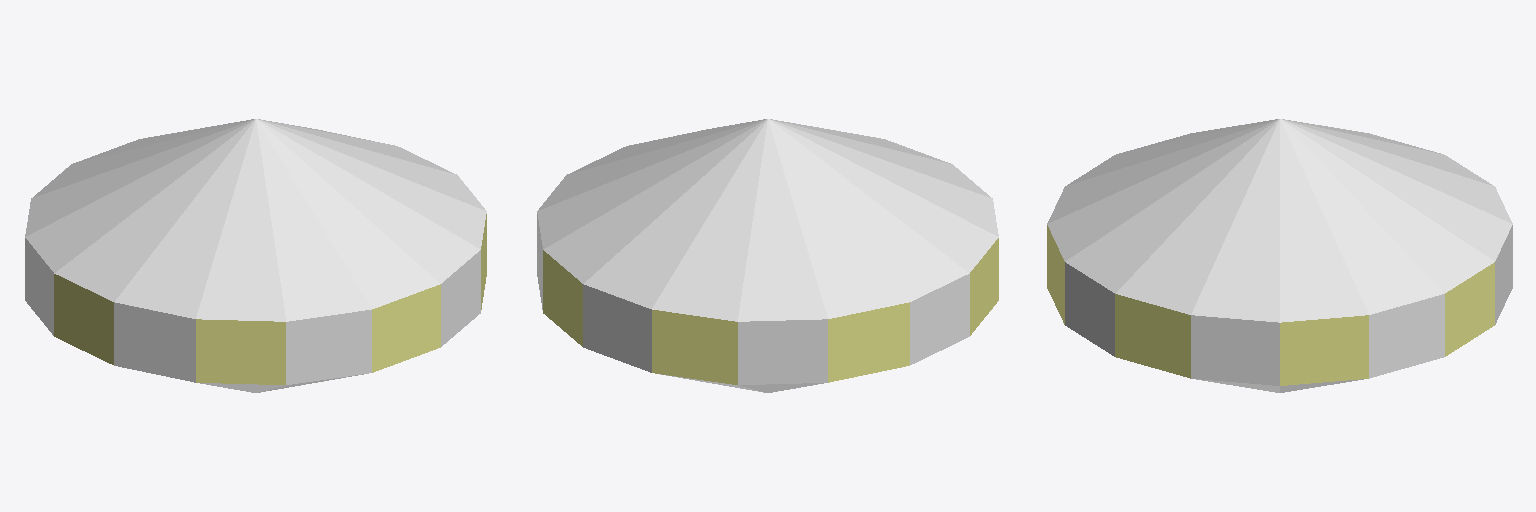
File: ufo1.obj
3 renders of one model, left to right at view 1: azimuth 30°, elevation 25°; view 2: azimuth 150°, elevation 25°; view 3: azimuth 270°, elevation 25°, orthographic.
Parts seen in each view (by area): view 1: ufo; view 2: ufo; view 3: ufo.
Boxes of the visible parts, box(x1,y1,x2,y2) form: ufo: box(25, 119, 486, 392); ufo: box(537, 119, 998, 392); ufo: box(1047, 119, 1512, 392).
Bounding box in the file's own units: 4 × 2.6 × 4.